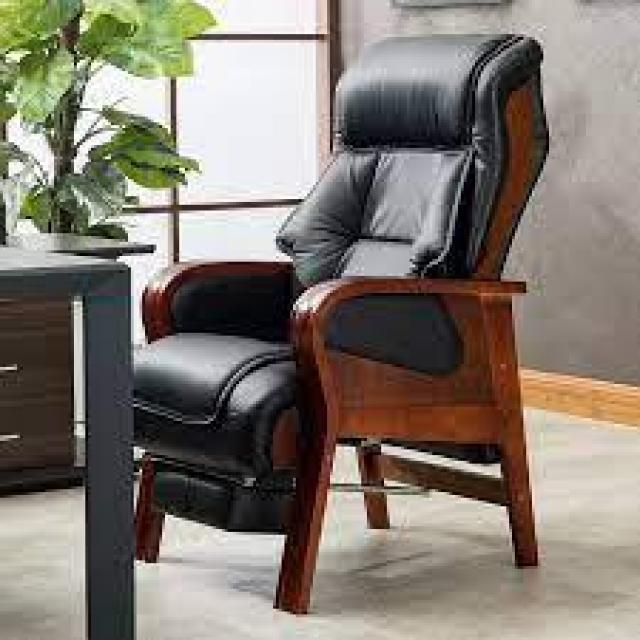chair: (115, 34, 573, 609)
